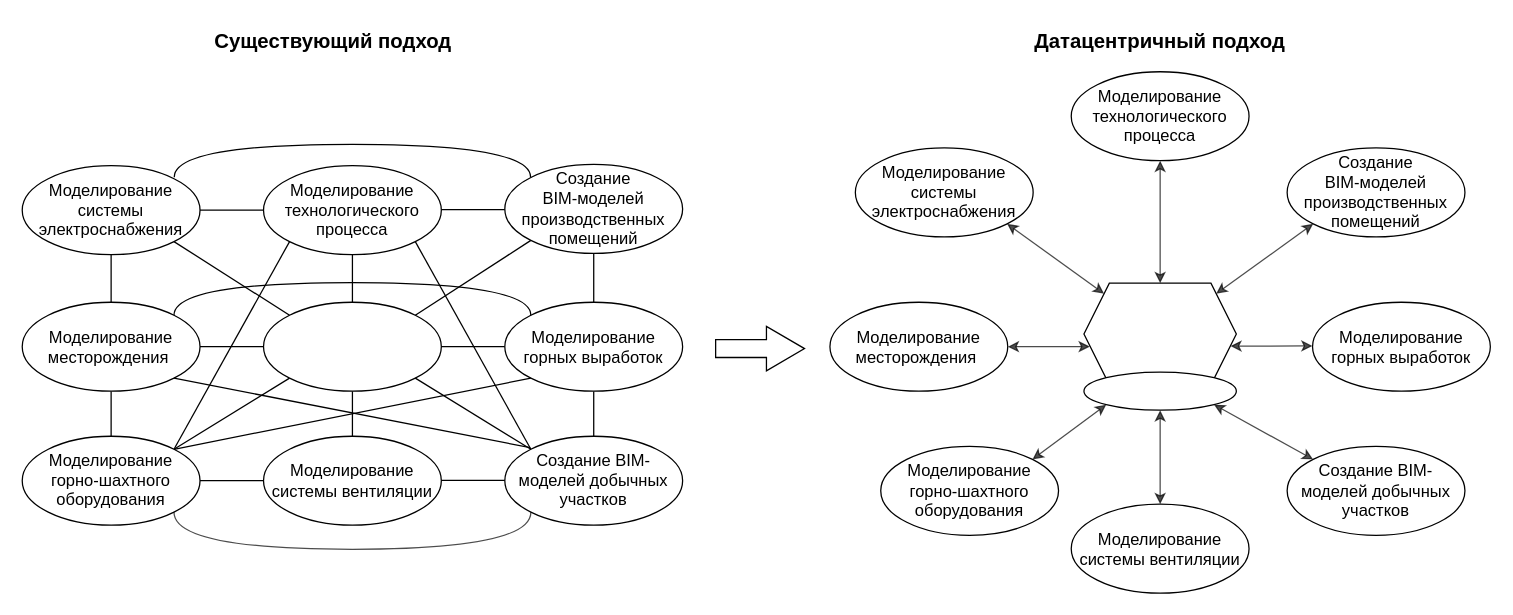
Image size: 1513x615. Some labels were removed from this diagram. Each missing label, with the box of its shape:
Информационная модель ЦД: (1083, 282, 1236, 385)
Обмен данными, рабочей и проектной документацией: (262, 301, 441, 391)
Онтология: (1083, 371, 1236, 410)
